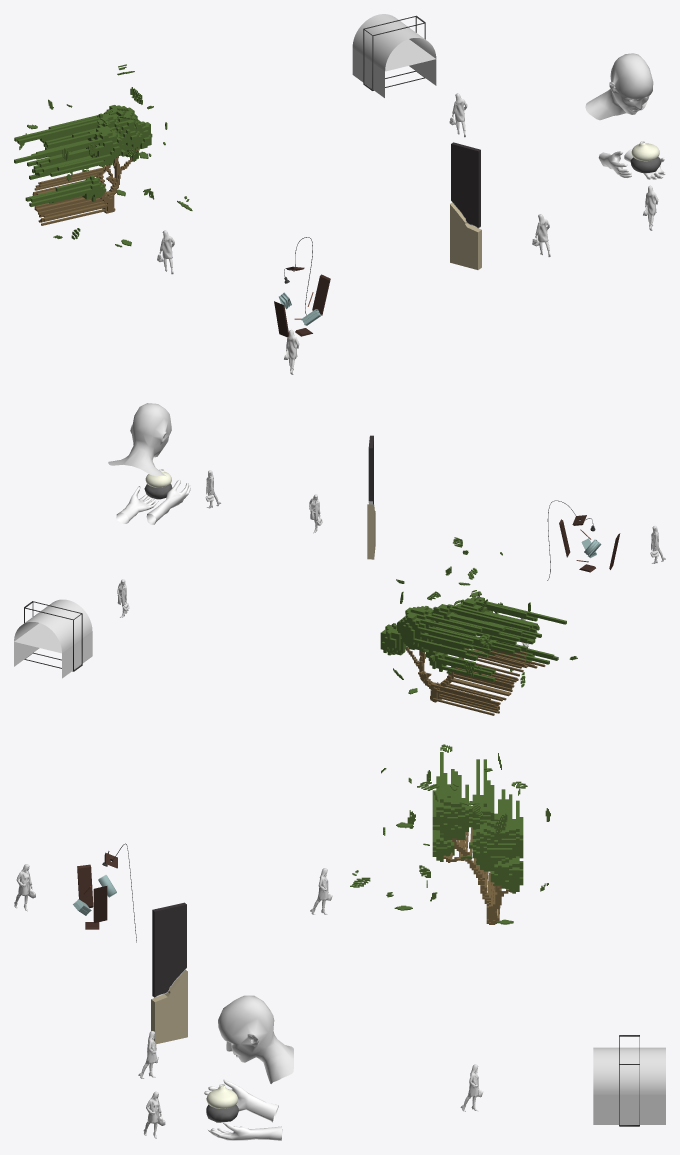
3 views of the same model, one above another, from view 1: azimuth 30°, elevation 25°; view 2: azimuth 150°, elevation 25°; view 3: azimuth 270°, elevation 25° (orthographic). The views are drawn at different scales.
Visible parts, largest first — view 1: low-poly-scene; view 2: low-poly-scene; view 3: low-poly-scene.
Part boxes in pixels (x1,y1,x2,y2): low-poly-scene: (14,14,665,374); low-poly-scene: (14,403,665,715); low-poly-scene: (14,744,665,1140).
Size of the model in its own units: 98.87 by 26.48 by 89.08.
